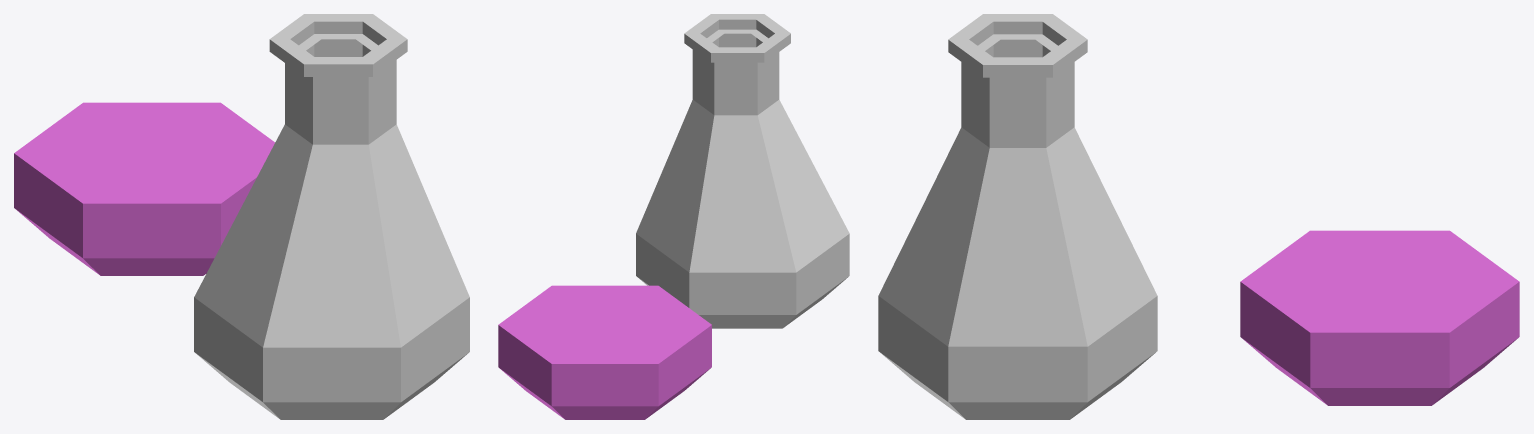
Rendered from ErylenmeyerFlask2.fbx.
The picture shows the model from 3 angles, left to right: view 1: azimuth 30°, elevation 25°; view 2: azimuth 150°, elevation 25°; view 3: azimuth 270°, elevation 25°; orthographic projection. The views are drawn at different scales.
Visible parts, largest first — view 1: Cylinder, Cylinder.001; view 2: Cylinder, Cylinder.001; view 3: Cylinder, Cylinder.001.
Part boxes in pixels (x1,y1,x2,y2): Cylinder: [194, 14, 469, 419]; Cylinder.001: [14, 102, 274, 275]; Cylinder: [636, 14, 849, 328]; Cylinder.001: [498, 285, 711, 419]; Cylinder: [878, 14, 1157, 419]; Cylinder.001: [1240, 230, 1519, 405].
Size of the model in its own units: 52.26 by 82 by 138.
